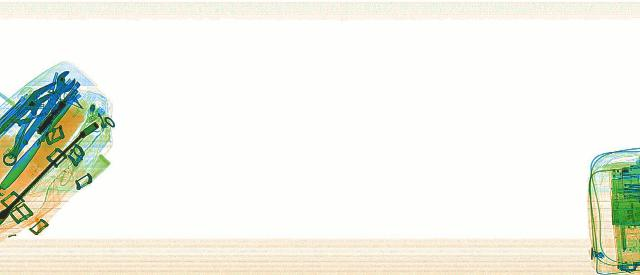Knife: (0, 86, 102, 173)
Wrench: (3, 120, 103, 205), (0, 70, 78, 159)
